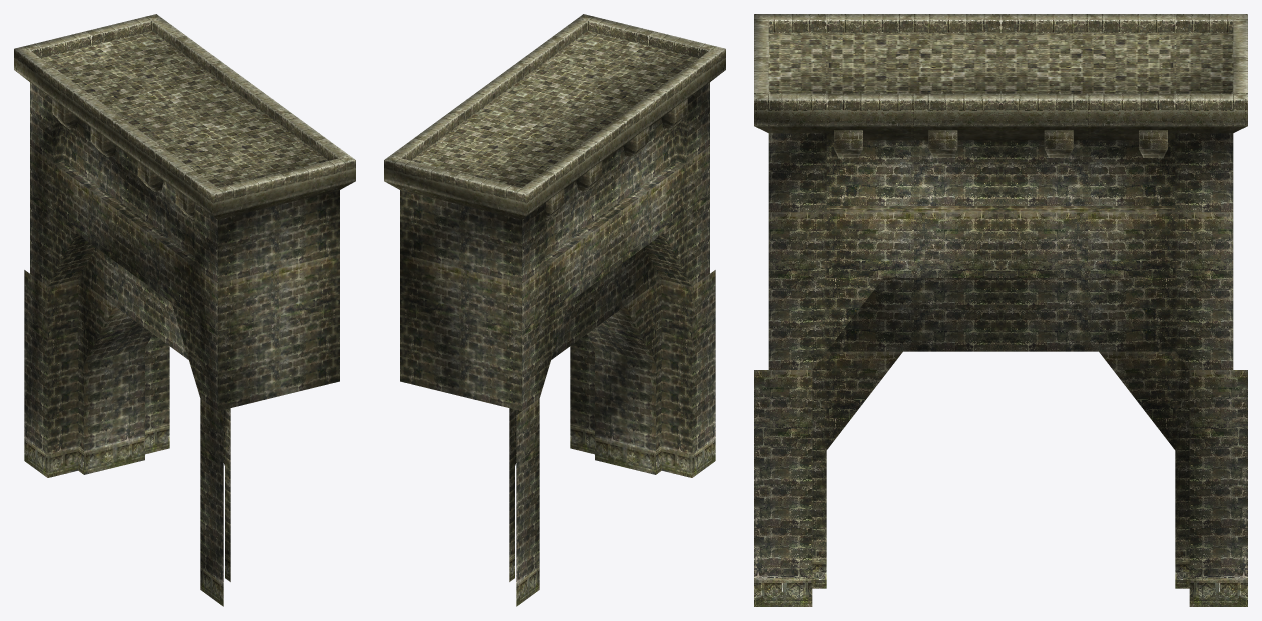
The model's file is OZ_30_kn_gate01D.glb.
3 views of the same model, side by side, from view 1: azimuth 30°, elevation 25°; view 2: azimuth 150°, elevation 25°; view 3: azimuth 270°, elevation 25° (orthographic). The views are drawn at different scales.
Visible parts, largest first — view 1: OM_30_kn_gate01D; view 2: OM_30_kn_gate01D; view 3: OM_30_kn_gate01D.
Boxes of the visible parts, x1,y1,x2,y2 form: OM_30_kn_gate01D: (14,14,355,606); OM_30_kn_gate01D: (384,14,725,606); OM_30_kn_gate01D: (754,14,1247,606).
Size of the model in its own units: 7 by 19.5 by 17.
Materials: 2 (2 with a texture image).
